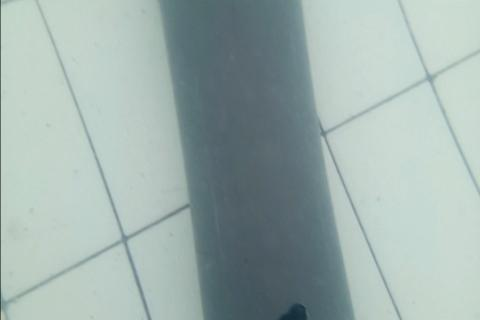kebocoran: (273, 301, 309, 320)
